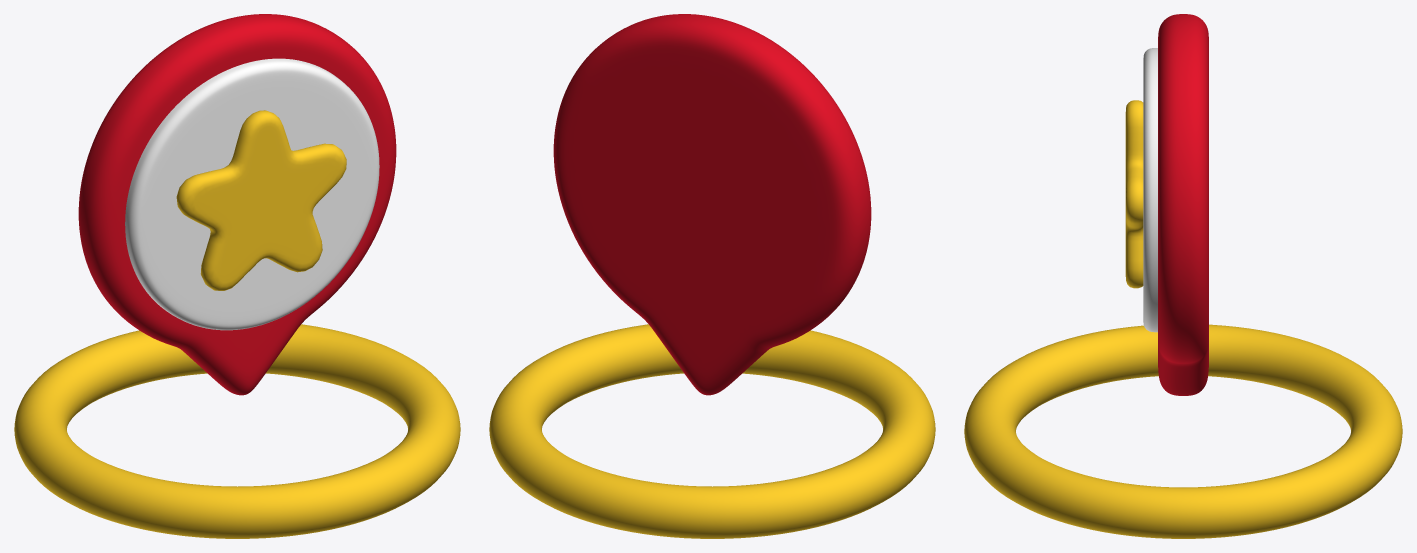
Rendered from star-location-5665179-1.fbx.
3 renders of one model, left to right at view 1: azimuth 30°, elevation 25°; view 2: azimuth 150°, elevation 25°; view 3: azimuth 270°, elevation 25°, orthographic.
Visible parts, largest first — view 1: Torus.029, Cylinder.036, Circle.036, Curve.012; view 2: Circle.036, Torus.029; view 3: Torus.029, Circle.036, Cylinder.036, Curve.012.
Part boxes in pixels (<box>): Torus.029: <box>14,324,460,538</box>; Cylinder.036: <box>125,58,379,330</box>; Circle.036: <box>78,14,396,395</box>; Curve.012: <box>176,110,346,290</box>; Circle.036: <box>553,14,871,395</box>; Torus.029: <box>489,324,935,538</box>; Torus.029: <box>964,324,1402,538</box>; Circle.036: <box>1158,14,1208,395</box>; Cylinder.036: <box>1143,48,1157,332</box>; Curve.012: <box>1125,100,1143,288</box>.
Bounding box in the file's own units: 429 × 459 × 429.
